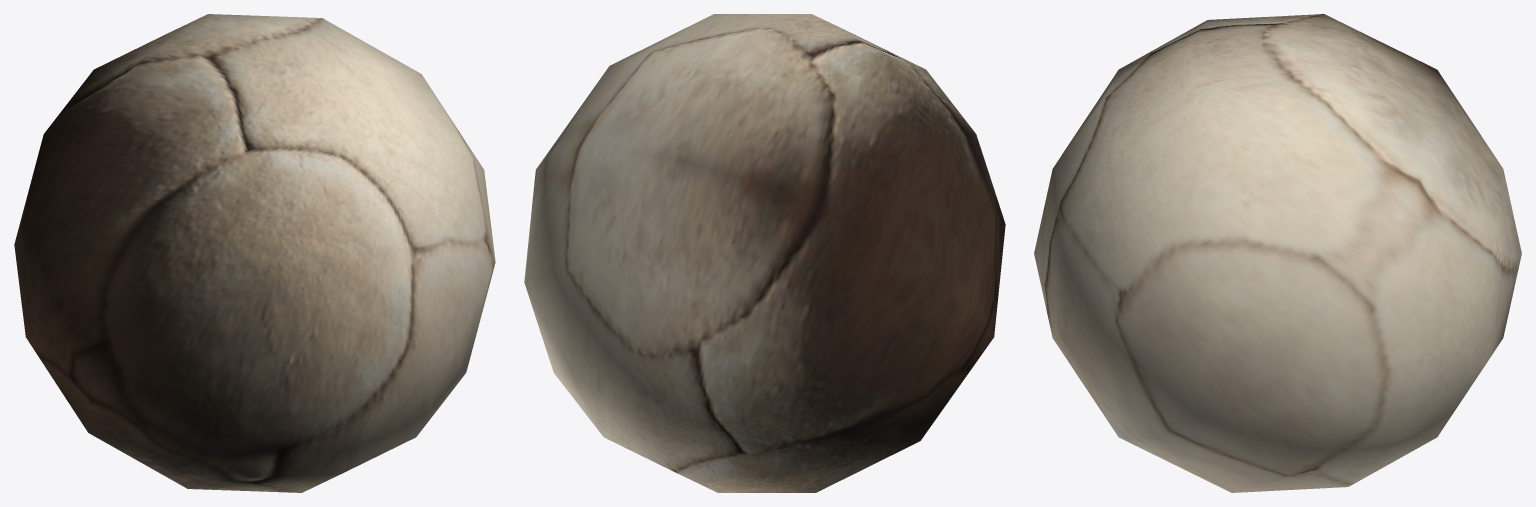
Rendered from balon_viejo_012.FBX.
3 renders of one model, left to right at view 1: azimuth 30°, elevation 25°; view 2: azimuth 150°, elevation 25°; view 3: azimuth 270°, elevation 25°, orthographic.
Parts seen in each view (by area): view 1: balon_viejo_012; view 2: balon_viejo_012; view 3: balon_viejo_012.
Boxes of the visible parts, x1=… form: balon_viejo_012: x1=14, y1=14, x2=495, y2=492; balon_viejo_012: x1=524, y1=14, x2=1005, y2=492; balon_viejo_012: x1=1034, y1=14, x2=1521, y2=492.
Size of the model in its own units: 26.98 by 26.98 by 26.98.
